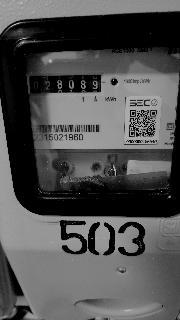1: (34, 81, 39, 90), (70, 80, 75, 89)
3: (46, 82, 51, 91)
9: (58, 81, 63, 90), (81, 81, 85, 89)
:: (93, 81, 97, 89)
